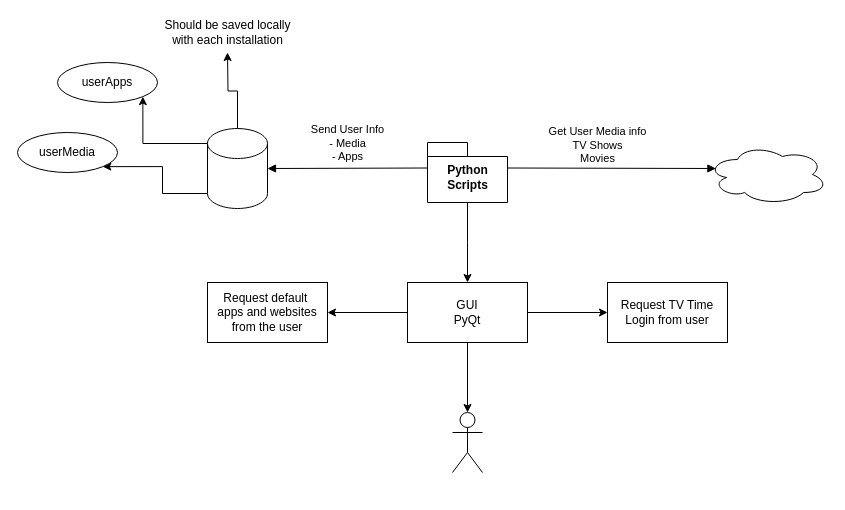
The diagram is 845 pixels wide and 510 high, and some of its shapes have lost their labels. Here are the shapes that lost their labels. From the top down, the centre of each, then its label:
the point at 237,168: SQL lite DB
the point at 767,174: TVTime API
the point at 467,442: User
